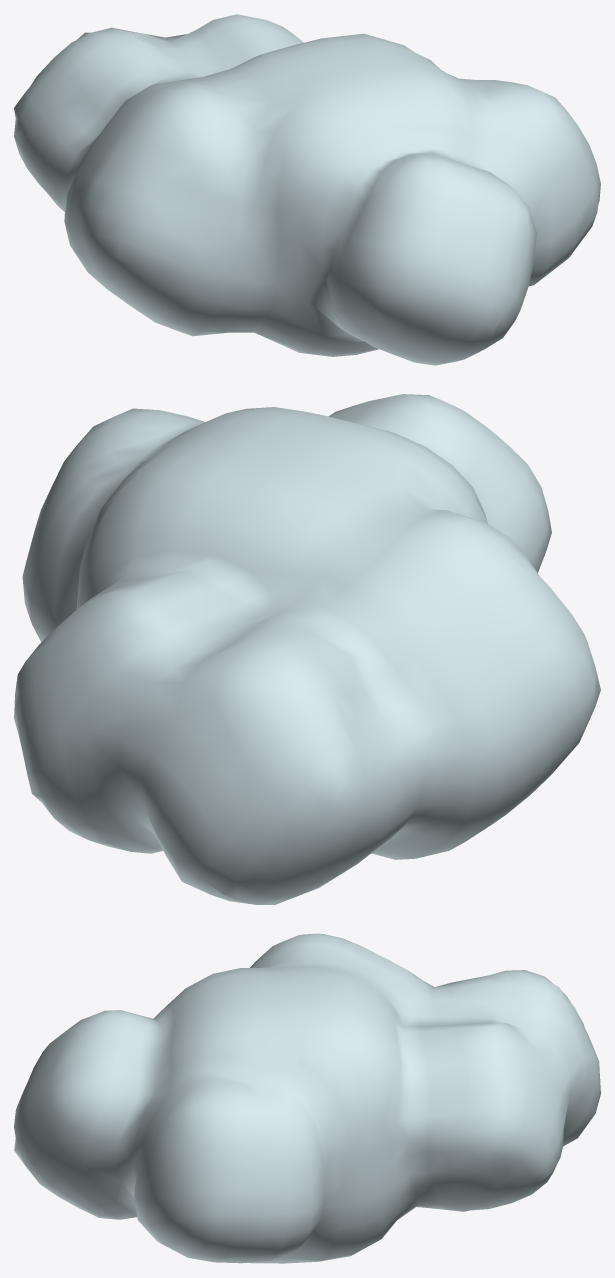
The model's file is Snow_Pile.fbx.
3 views of the same model, one above another, from view 1: azimuth 30°, elevation 25°; view 2: azimuth 150°, elevation 25°; view 3: azimuth 270°, elevation 25° (orthographic). The views are drawn at different scales.
Parts seen in each view (by area): view 1: pPlatonic1; view 2: pPlatonic1; view 3: pPlatonic1.
Part boxes in pixels (left/top/right/bottom): pPlatonic1: left=14, top=14, right=600, bottom=365; pPlatonic1: left=14, top=394, right=600, bottom=904; pPlatonic1: left=14, top=933, right=600, bottom=1263.
Size of the model in its own units: 3.28 by 1.82 by 3.89.
